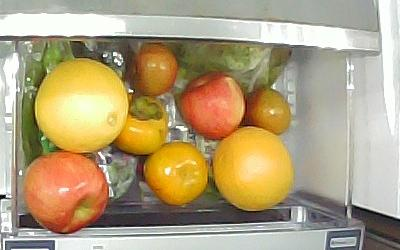apple: (23, 150, 109, 235), (179, 73, 245, 141)
grapefruit: (34, 58, 129, 154), (212, 126, 294, 212)
persimmon: (143, 143, 207, 206), (112, 93, 169, 155)
prune: (126, 43, 178, 95), (244, 87, 292, 136)
